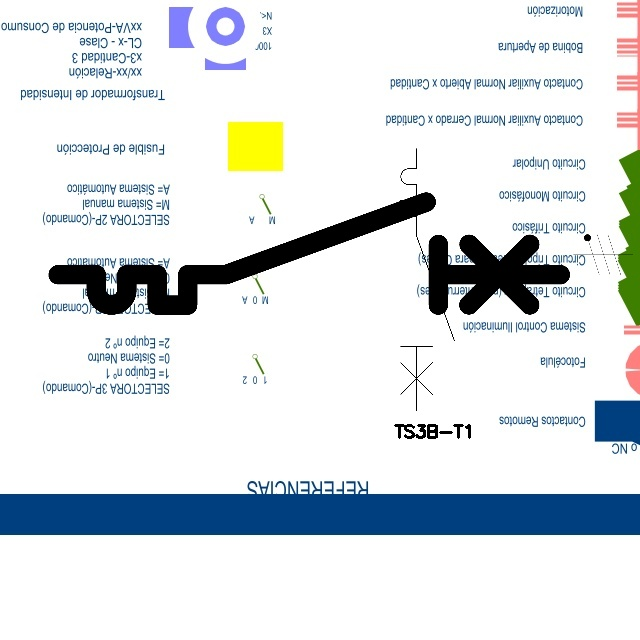interruptor_termomagnetico: (45, 189, 573, 318), (394, 142, 461, 417)
